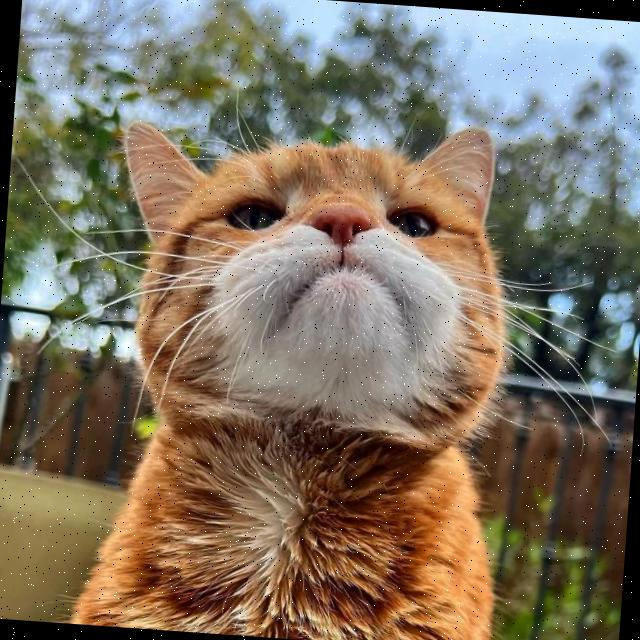cat: (58, 78, 539, 640)
